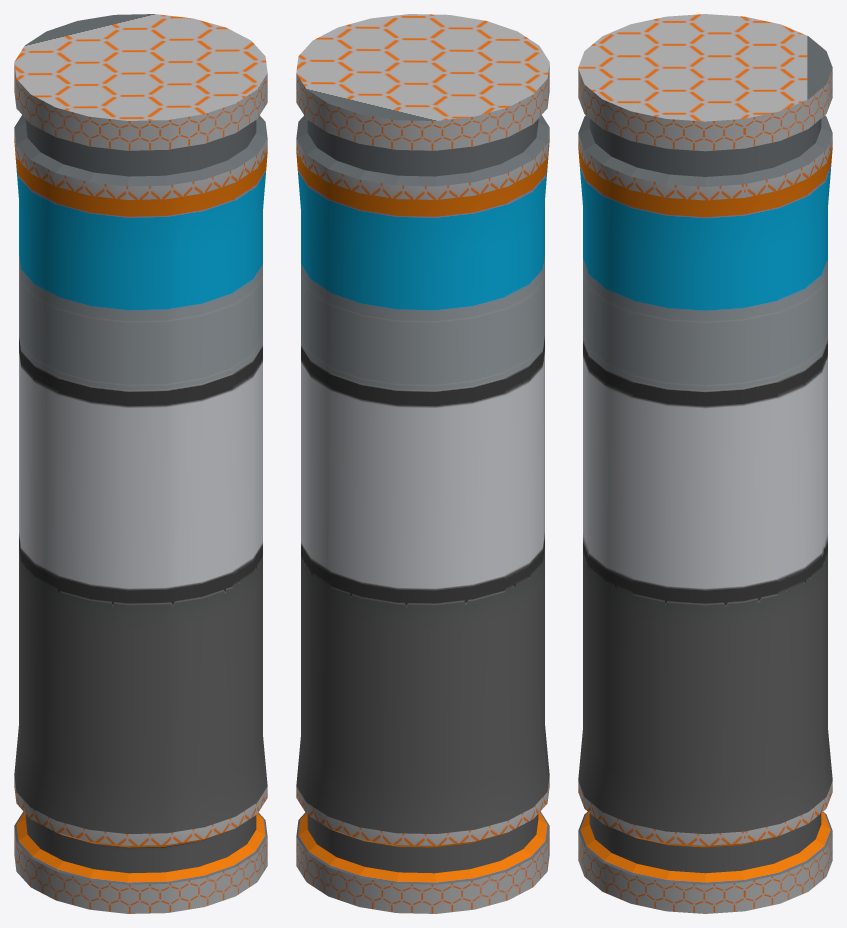
The model's file is Column.fbx.
3 views of the same model, side by side, from view 1: azimuth 30°, elevation 25°; view 2: azimuth 150°, elevation 25°; view 3: azimuth 270°, elevation 25° (orthographic).
Parts seen in each view (by area): view 1: pCylinder1; view 2: pCylinder1; view 3: pCylinder1.
Part boxes in pixels (<box>): pCylinder1: <box>14,14,267,913</box>; pCylinder1: <box>296,14,549,913</box>; pCylinder1: <box>578,14,832,913</box>.
Size of the model in its own units: 0.5823 by 2 by 0.5823.
